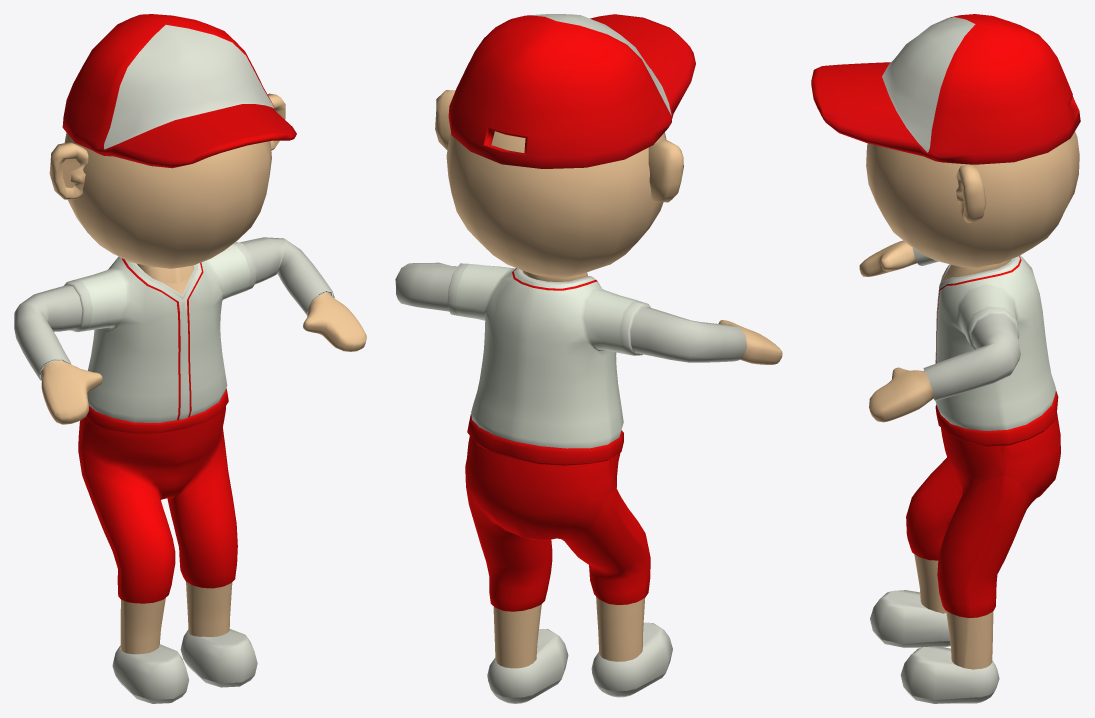
The model's file is MotorBiker.fbx.
3 views of the same model, side by side, from view 1: azimuth 30°, elevation 25°; view 2: azimuth 150°, elevation 25°; view 3: azimuth 270°, elevation 25° (orthographic). The views are drawn at different scales.
Visible parts, largest first — view 1: MotorBiker; view 2: MotorBiker; view 3: MotorBiker.
Boxes of the visible parts, bbox=[...] form: MotorBiker: bbox=[14, 14, 366, 703]; MotorBiker: bbox=[395, 14, 782, 703]; MotorBiker: bbox=[811, 14, 1080, 703].
Size of the model in its own units: 115 by 226 by 84.25.
1 material, 1 textured.
